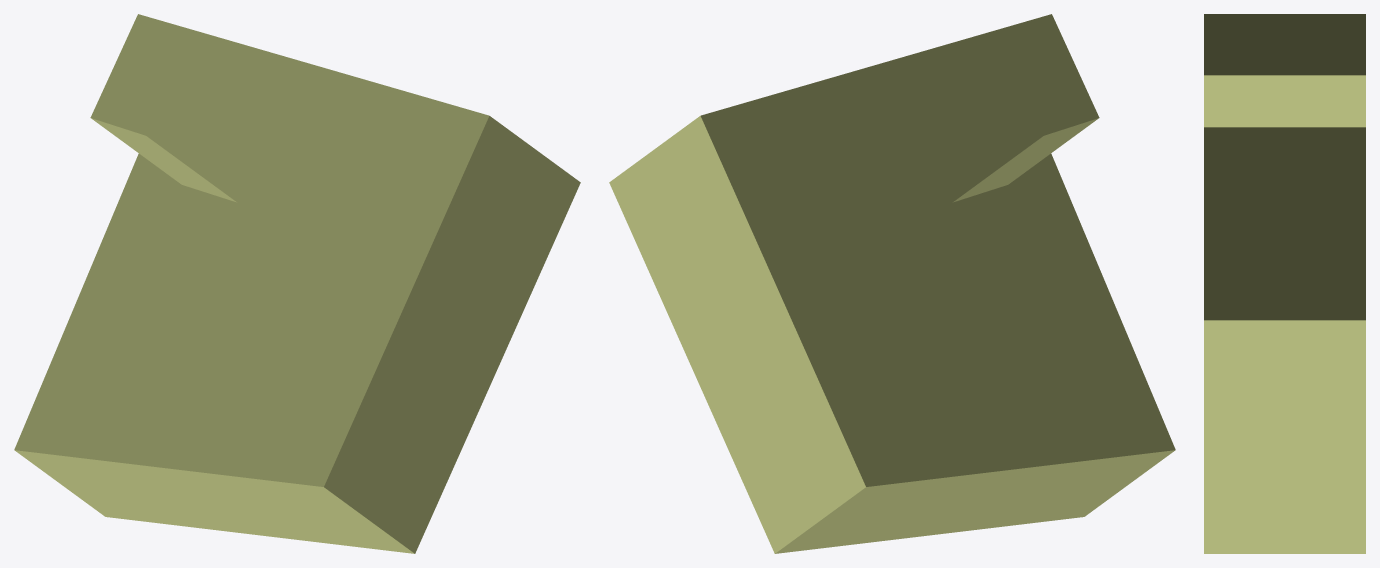
The picture shows the model from 3 angles, left to right: view 1: azimuth 30°, elevation 25°; view 2: azimuth 150°, elevation 25°; view 3: azimuth 270°, elevation 25°; orthographic projection. The views are drawn at different scales.
Visible parts, largest first — view 1: 0_0_1_2_0_3_3; view 2: 0_0_1_2_0_3_3; view 3: 0_0_1_2_0_3_3.
Part boxes in pixels (x1,y1,x2,y2): 0_0_1_2_0_3_3: (14, 14, 580, 553); 0_0_1_2_0_3_3: (609, 14, 1175, 553); 0_0_1_2_0_3_3: (1204, 14, 1365, 553).
Bounding box in the file's own units: 18.03 × 18.79 × 6.
